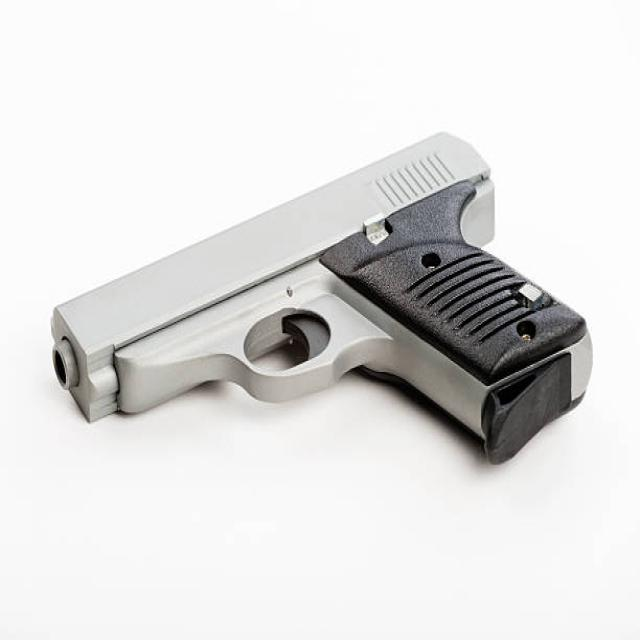pistol: (44, 124, 598, 470)
